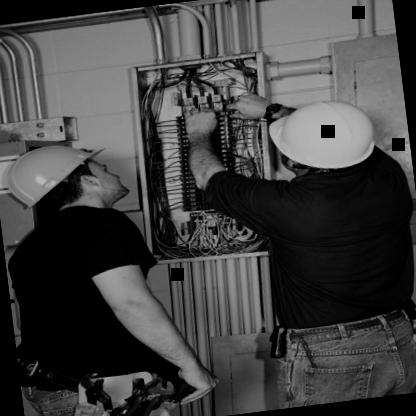helmet: (238, 78, 408, 217), (0, 131, 120, 231)
